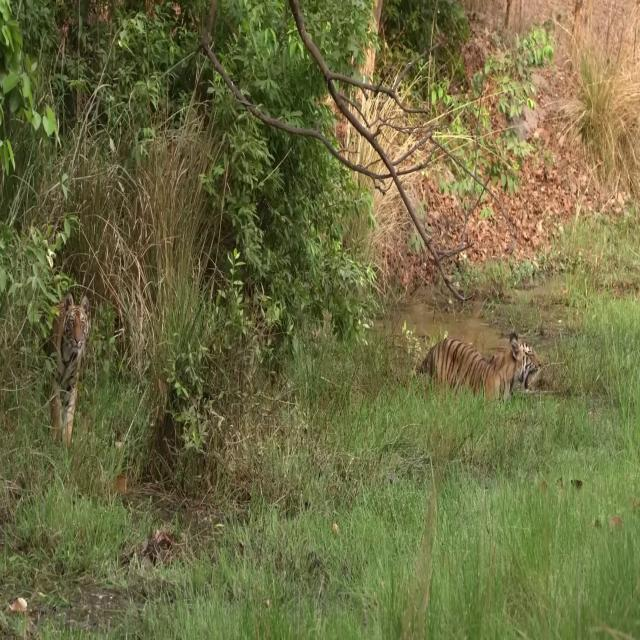tiger: (416, 330, 542, 404), (44, 289, 91, 444)
